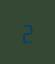two: (19, 20, 34, 43)
